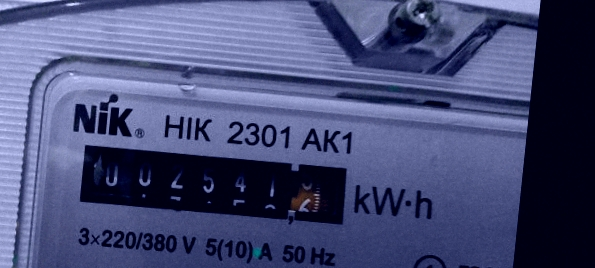0: (133, 154, 155, 189), (102, 157, 122, 188)
1: (260, 164, 280, 199)
2: (164, 156, 188, 192)
4: (230, 162, 250, 195)
5: (197, 162, 217, 195)
6: (294, 192, 312, 214)
screen: (62, 124, 369, 245)
